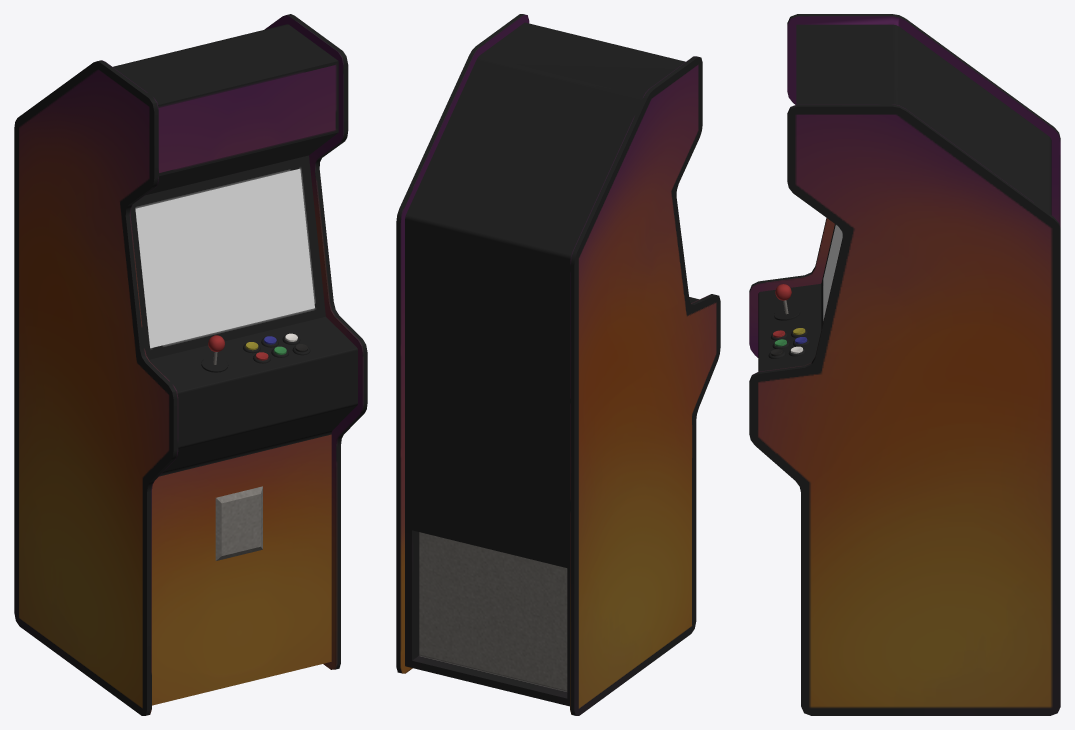
File: arcadeMachine.fbx
3 renders of one model, left to right at view 1: azimuth 30°, elevation 25°; view 2: azimuth 150°, elevation 25°; view 3: azimuth 270°, elevation 25°, orthographic. The views are drawn at different scales.
Parts seen in each view (by area): view 1: polySurface17; view 2: polySurface17; view 3: polySurface17.
Part boxes in pixels (x1,y1,x2,y2): polySurface17: (14,14,367,715); polySurface17: (396,14,720,715); polySurface17: (749,14,1060,715).
Size of the model in its own units: 191 by 587 by 272.
2 materials, 1 textured.
